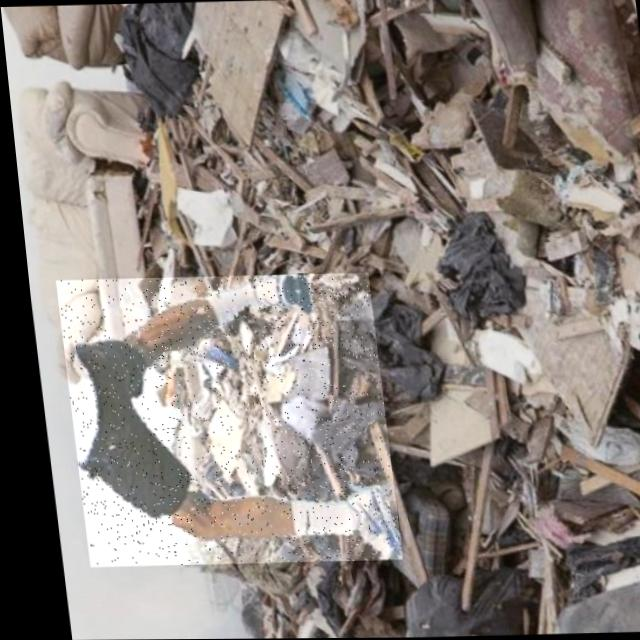Person in Rubble: (48, 272, 390, 566)
